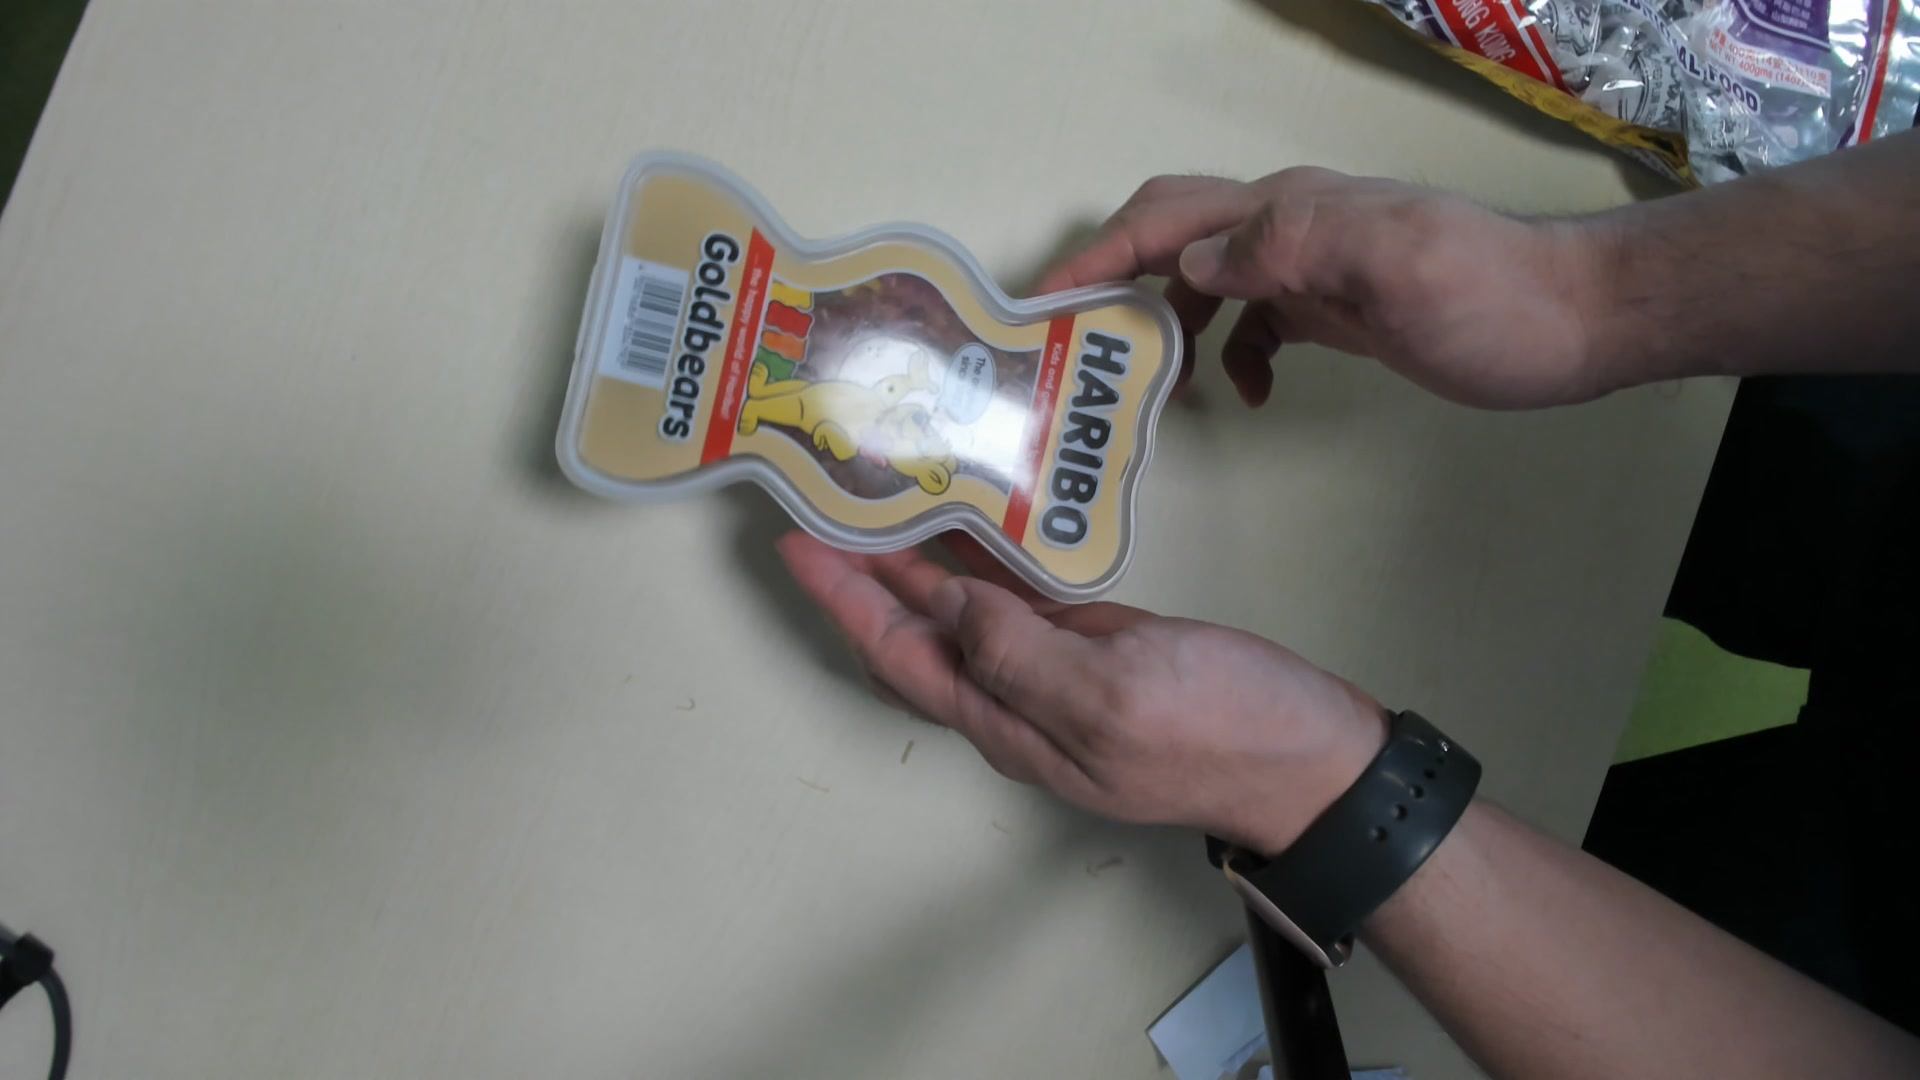SweetsChocolatesOthers_400-499g_NonHalal_Nonhealthy: (543, 158, 1182, 607)
